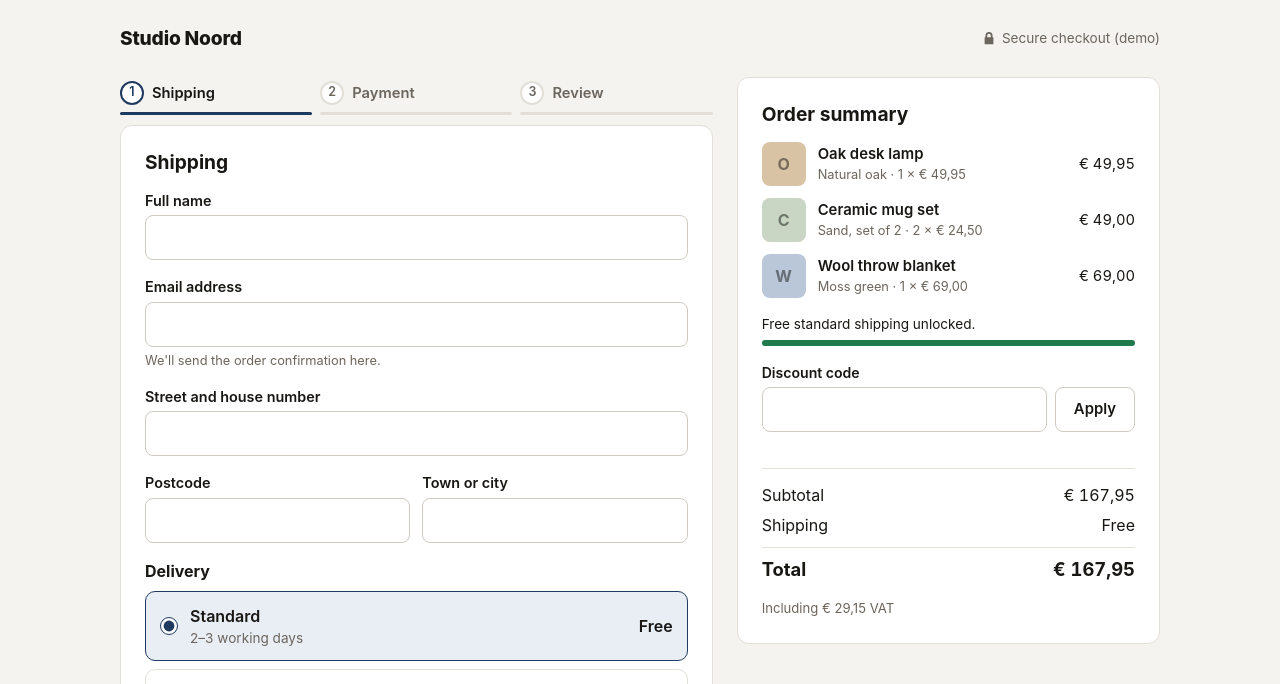
Checkout › normalizes the postcode when the customer leaves the field
The image size is (1280, 684).
Type "Sanne de Vries" into the field labelled "Full name". click: (416, 238)
box: [145,215,688,260]
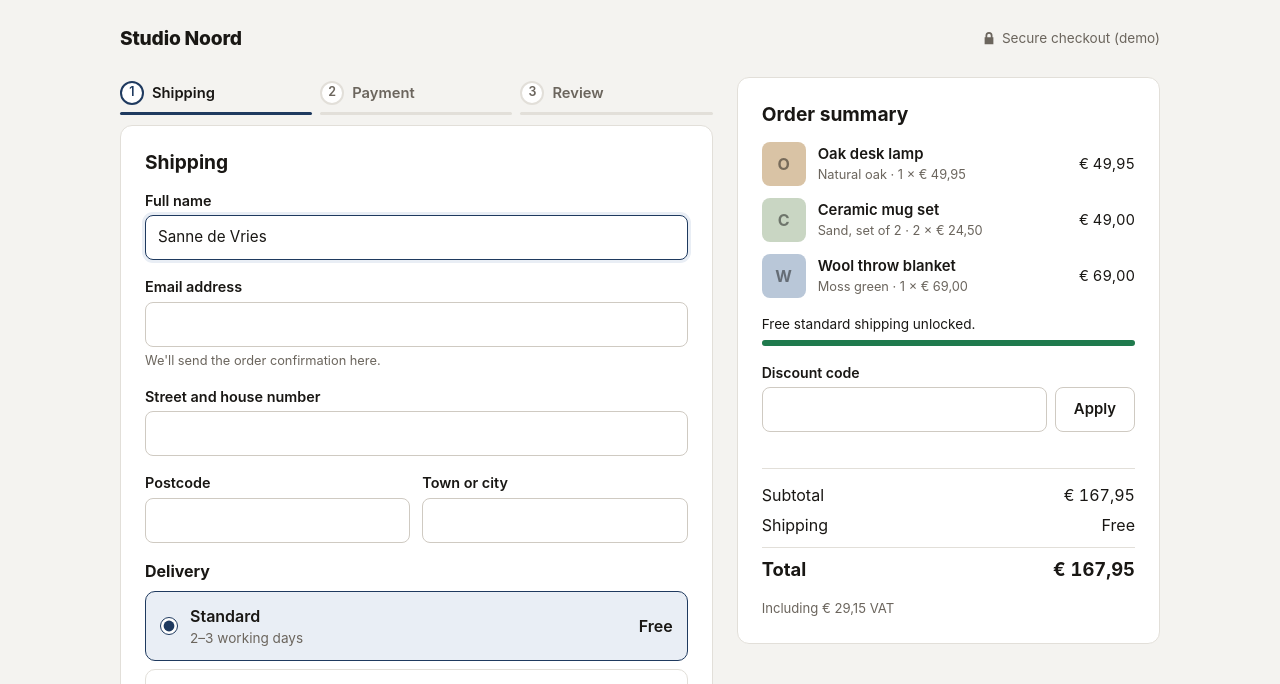
Type "sanne@example.com" into the field labelled "Email address". click: (416, 324)
box: [145,302,688,347]
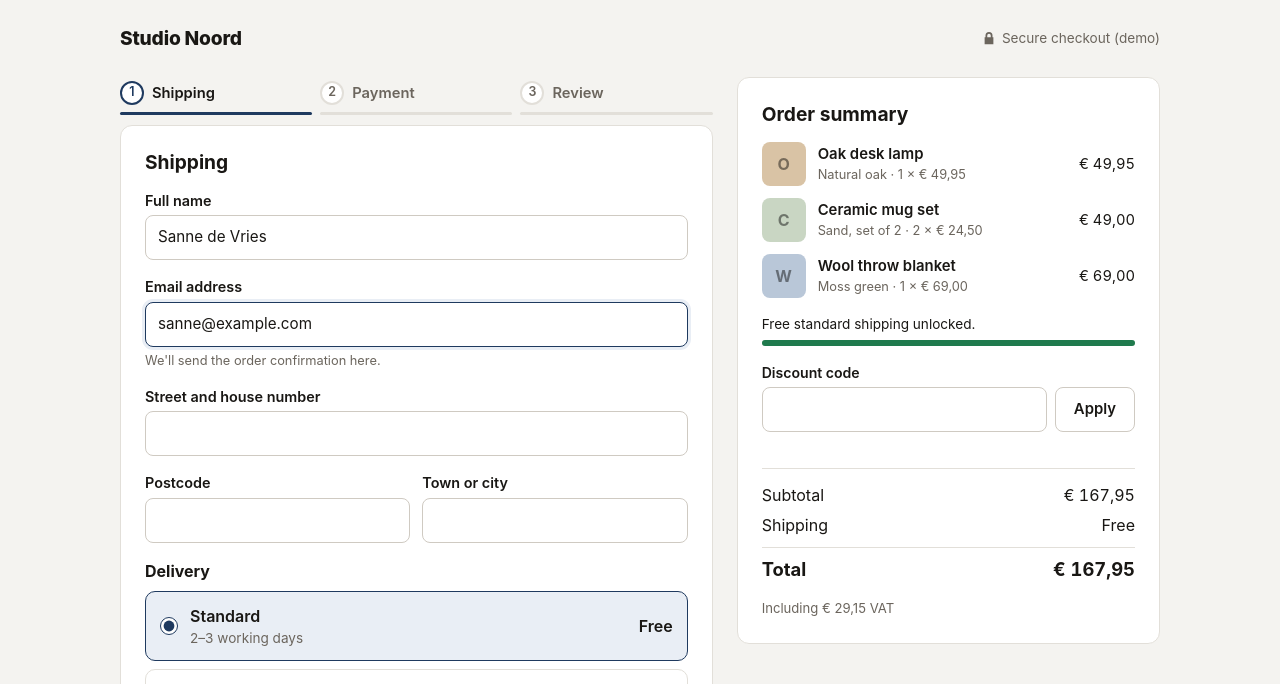
Type "Keizersgracht 12" into the field labelled "Street and house number". click: (416, 434)
box: [145,411,688,456]
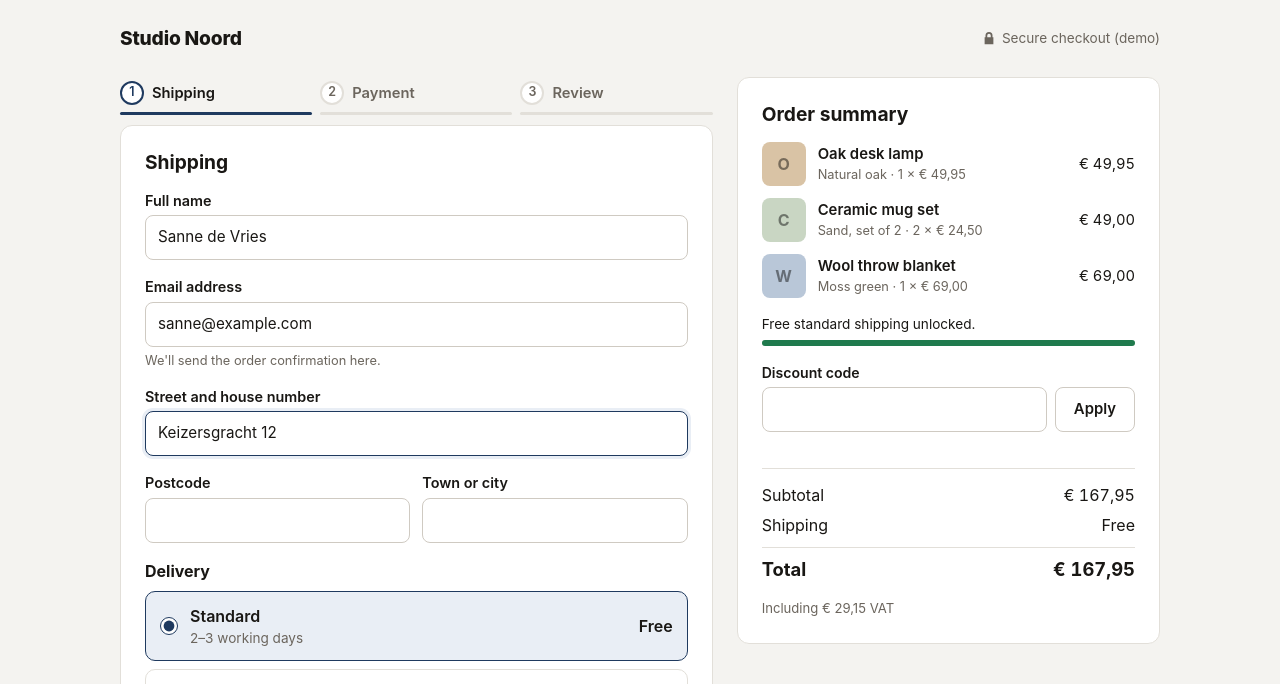
Type "1015cs" into the field labelled "Postcode". click: (278, 520)
box: [145,498,410,543]
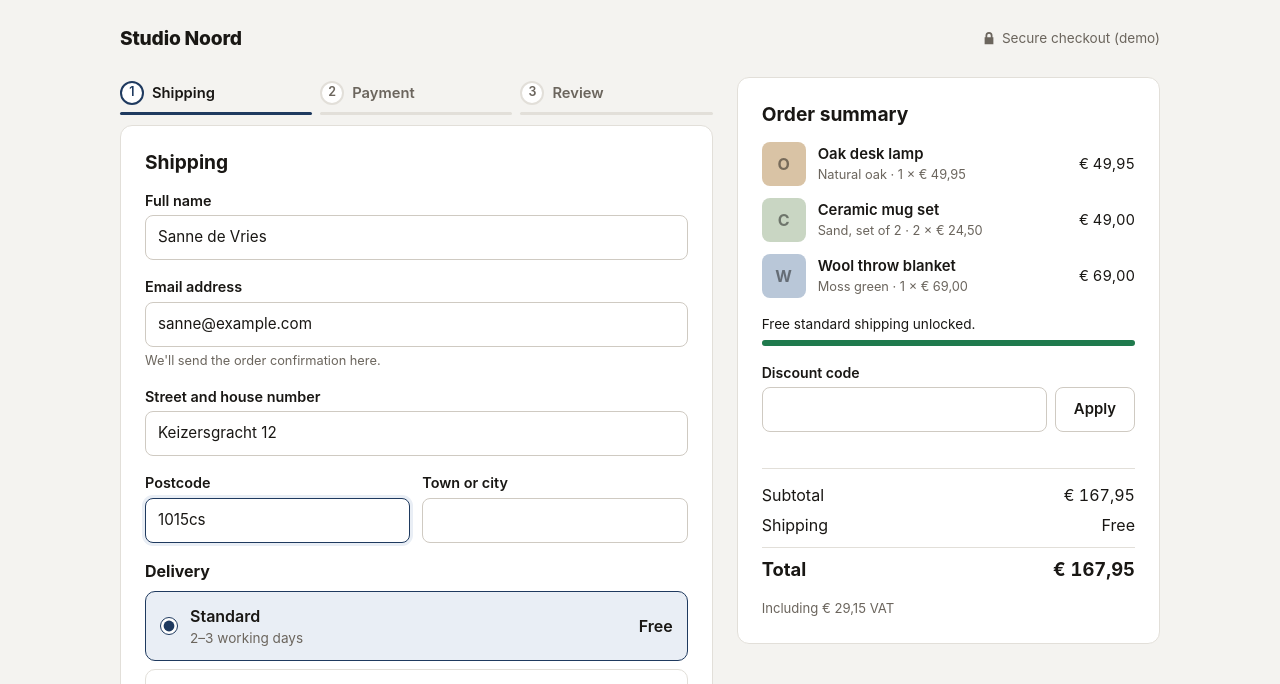
Type "Amsterdam" into the field labelled "Town or city". click: (555, 520)
box: [422,498,688,543]
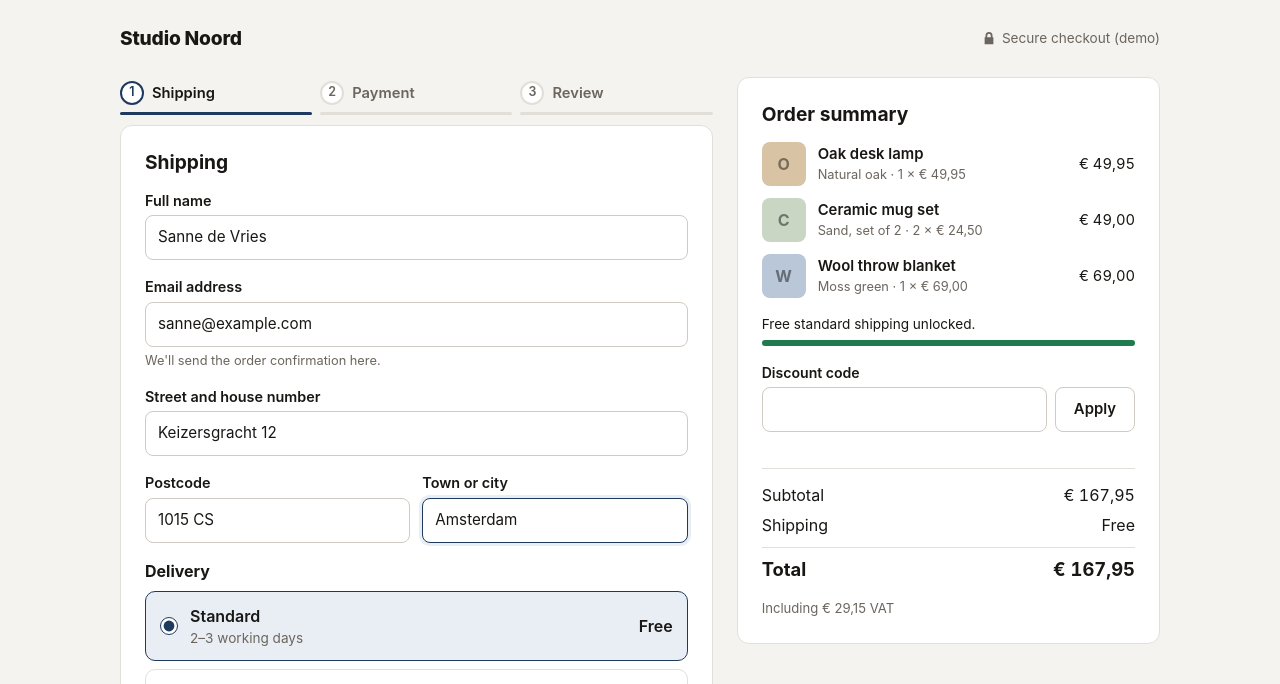
Now the field labelled "Postcode" holds "1015 CS", box [145,498,410,543]
